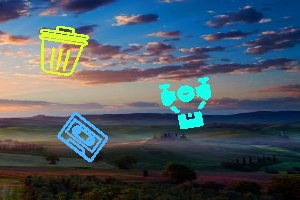垃圾桶: (38, 26, 87, 76)
弹弓: (159, 77, 214, 130)
磁带: (57, 112, 107, 164)
